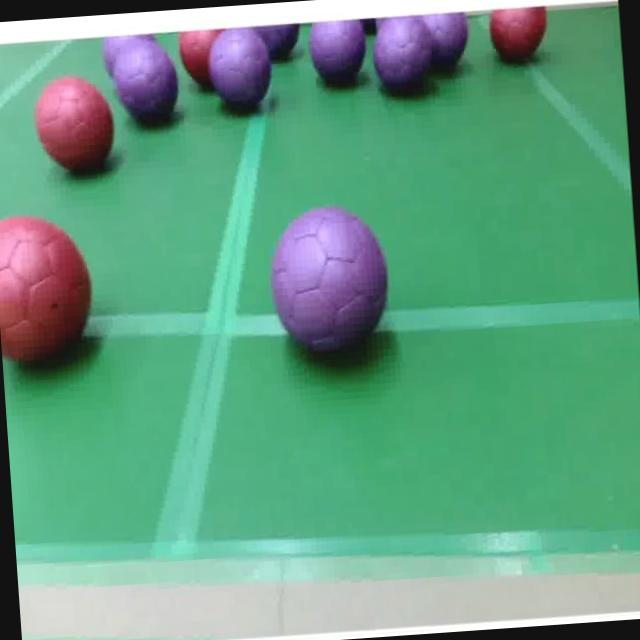purple_ball: (264, 200, 396, 372), (366, 12, 437, 99), (114, 44, 182, 130), (216, 26, 274, 112), (311, 20, 368, 90), (420, 9, 472, 76), (97, 32, 159, 76), (254, 24, 300, 58)
red_ball: (0, 210, 96, 367), (35, 74, 118, 174), (487, 5, 551, 69), (176, 27, 216, 94)
